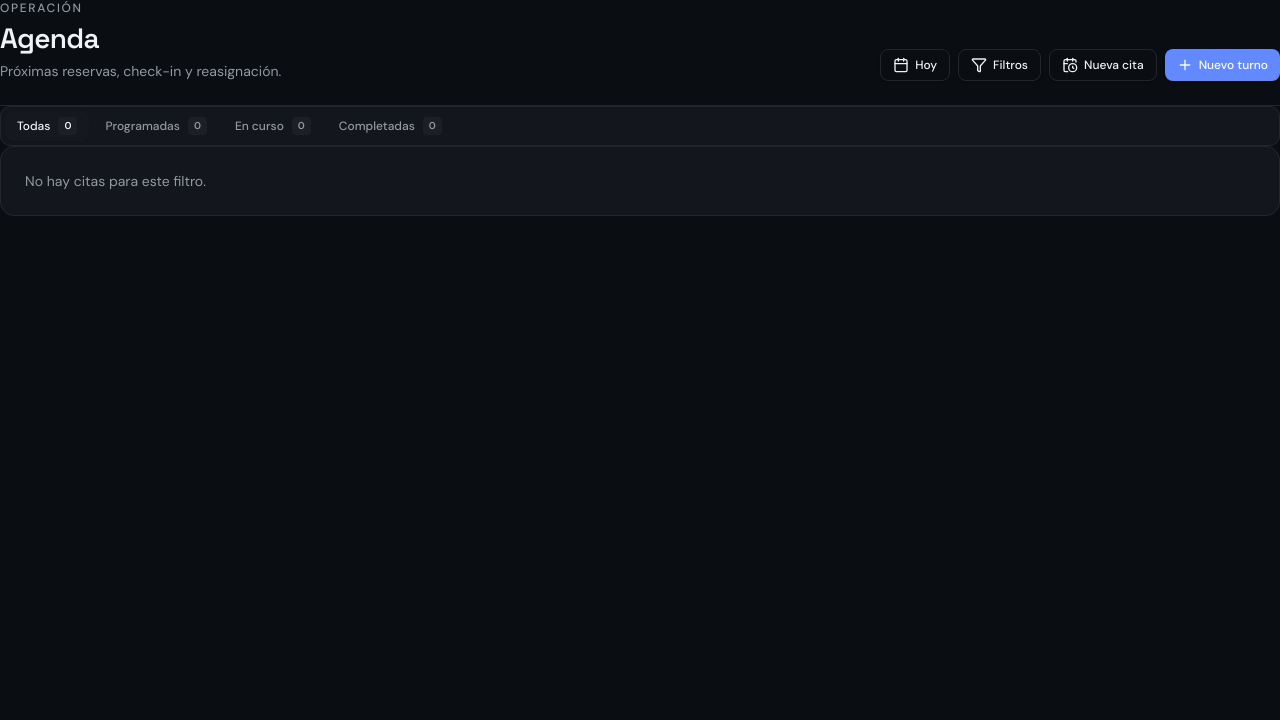
Test: AppointmentsView › opens the walk-in dialog from Nuevo turno
This screenshot has width=1280, height=720.
Click the button "Nuevo turno". click: (1222, 65)
box: [1165,49,1279,81]
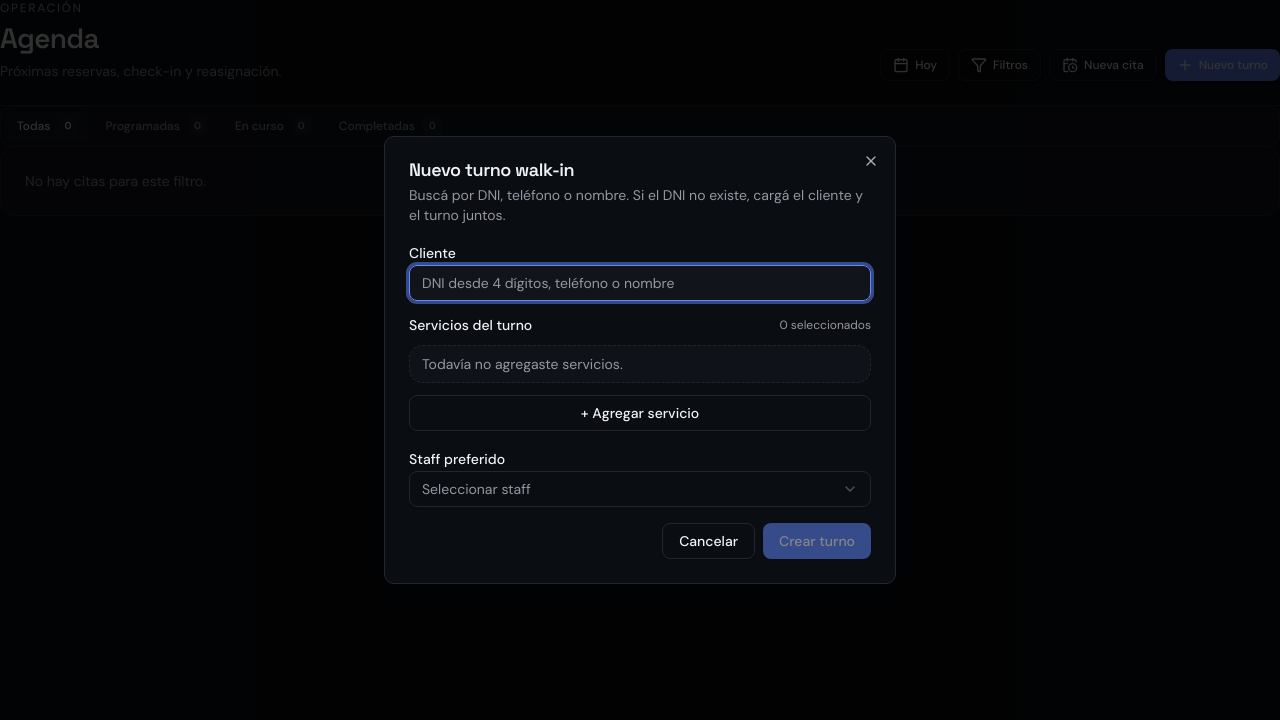
expect the dialog "Nuevo turno walk-in" is shown: met, box [384,136,896,584]
